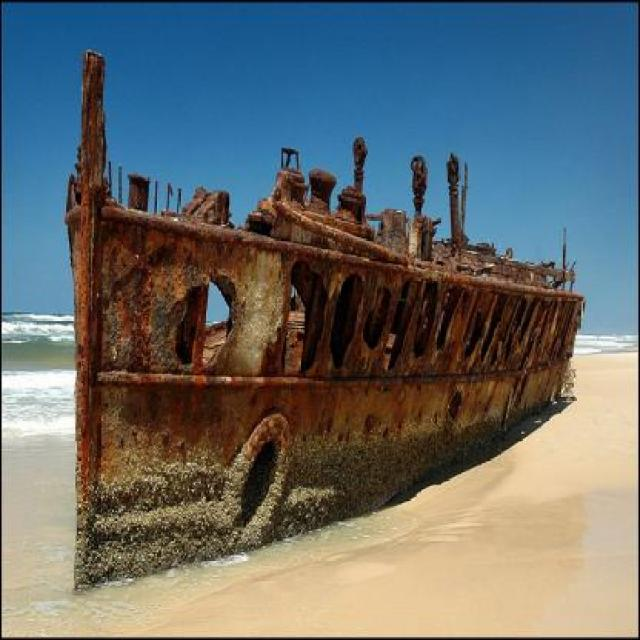corrosion: (68, 50, 588, 592)
